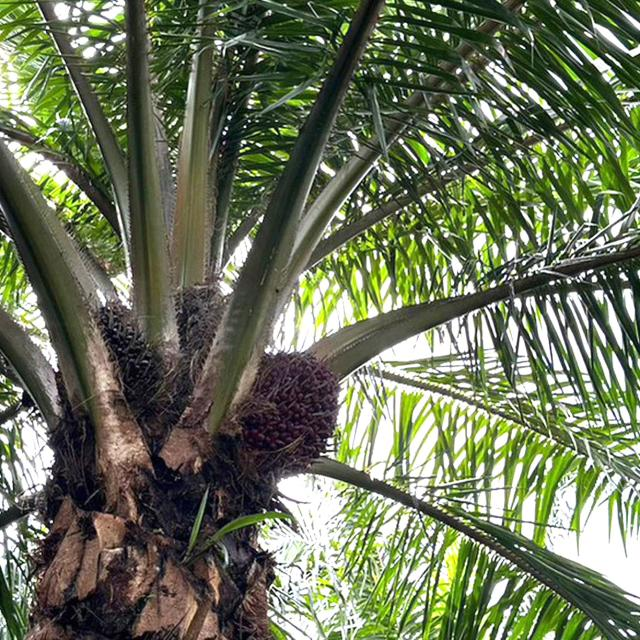ripe: (230, 338, 356, 485)
